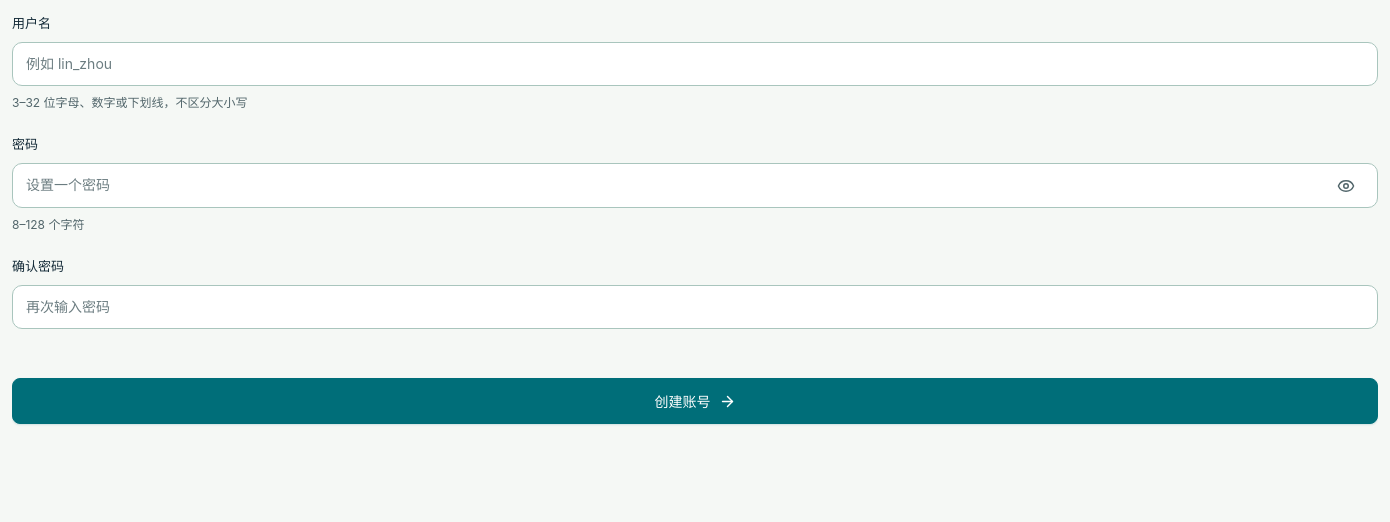
Test: 认证表单 › 字段不合法时展示错误并阻止提交
This screenshot has width=1390, height=522.
Type "中文" into the field named "username" at (695,64), box [26,43,1364,86]
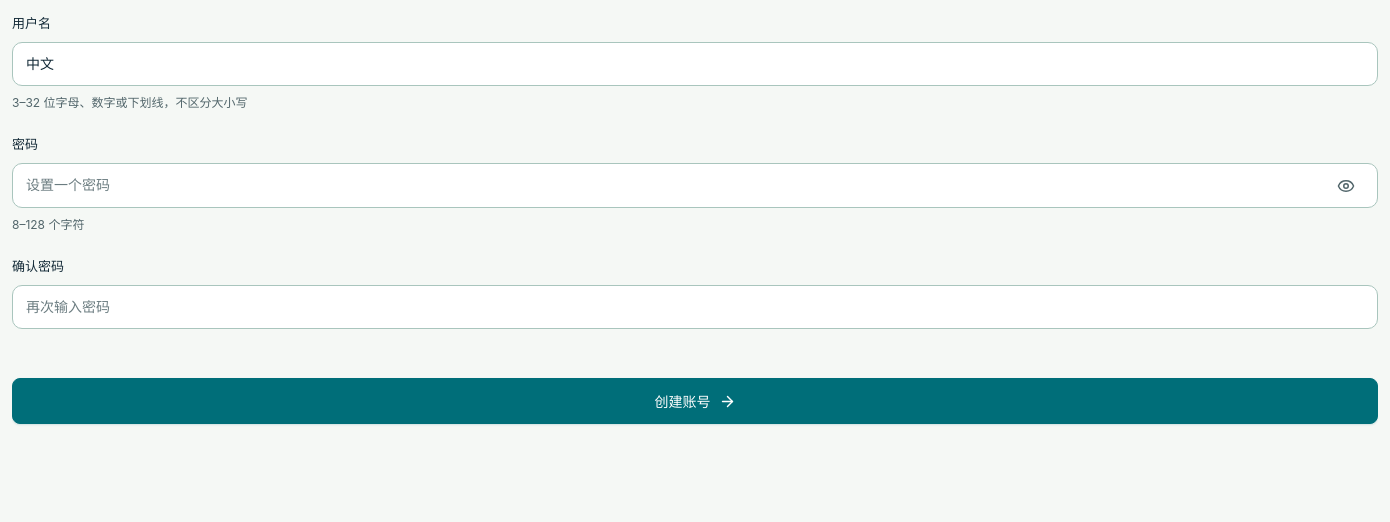
Type "short" into the password field named "password" at (672,186), box [26,164,1319,207]
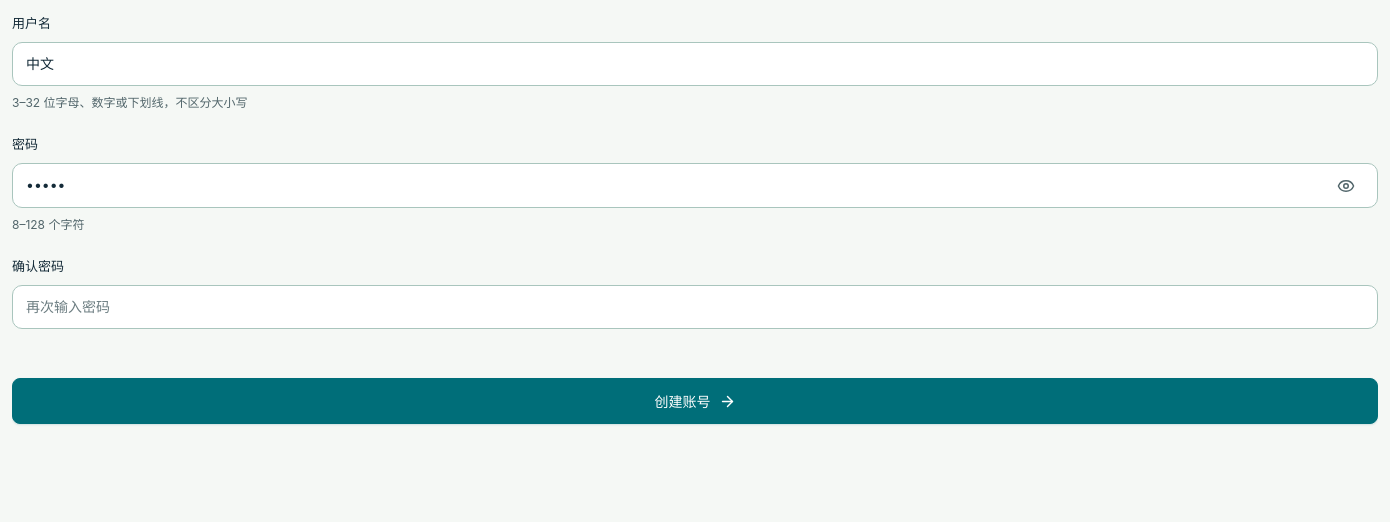
Type "different" into the password field named "confirmation" at (695,307), box [26,286,1364,328]
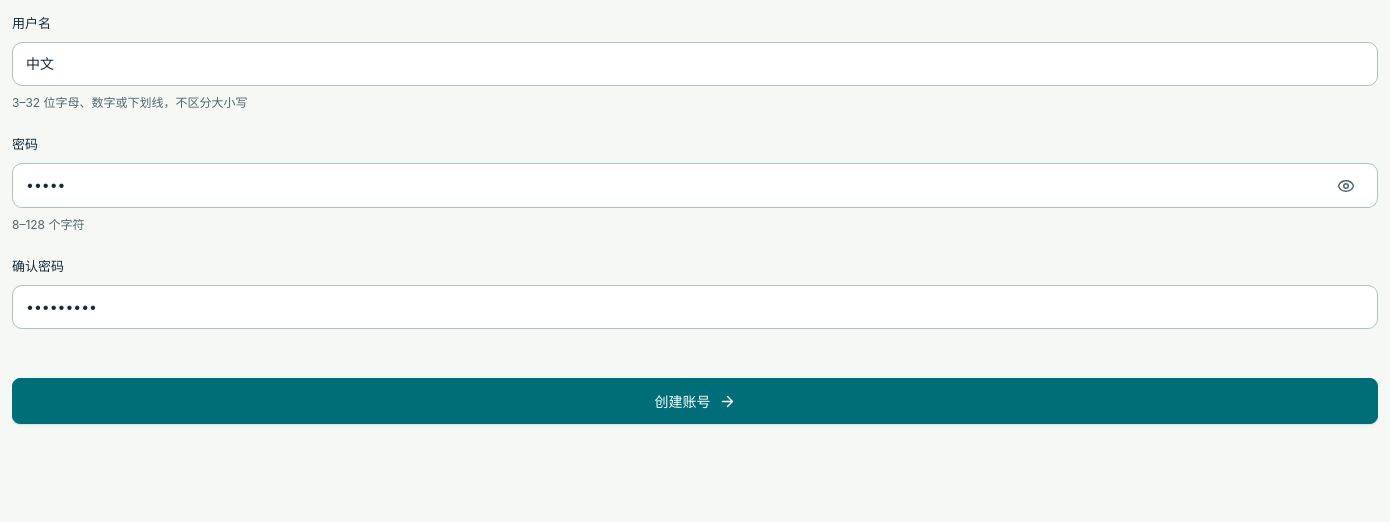
Submit the form
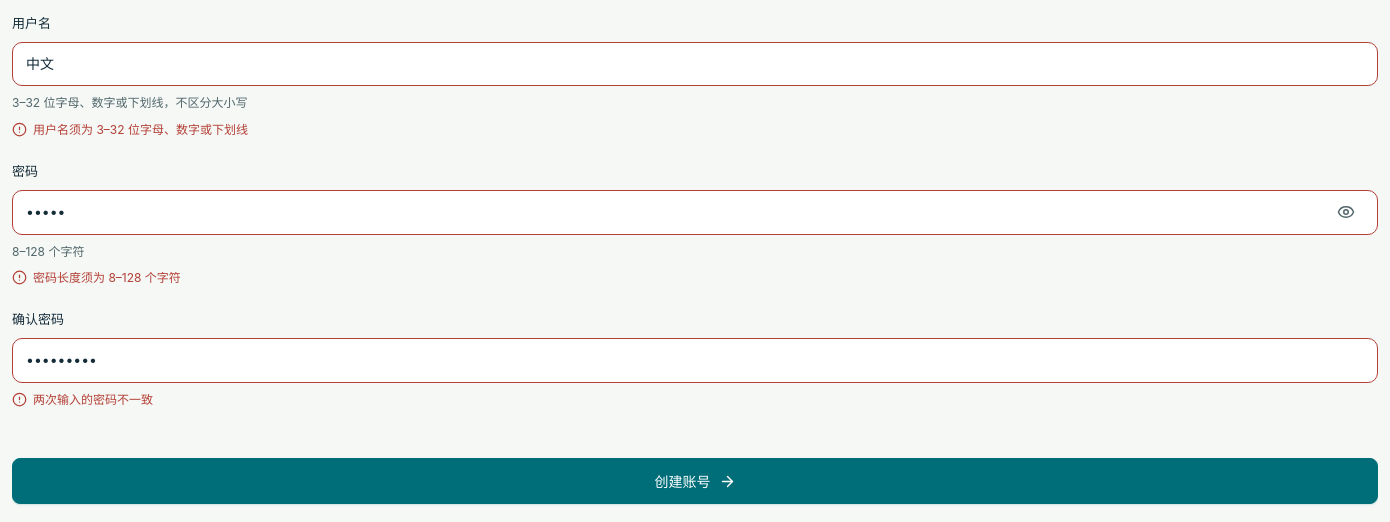
Expected: the form shows "用户名须为", [33,122,248,137]
Expected: the form shows "密码长度须为", [33,270,181,285]
Expected: the form shows "两次输入的密码不一致", [33,392,153,407]
